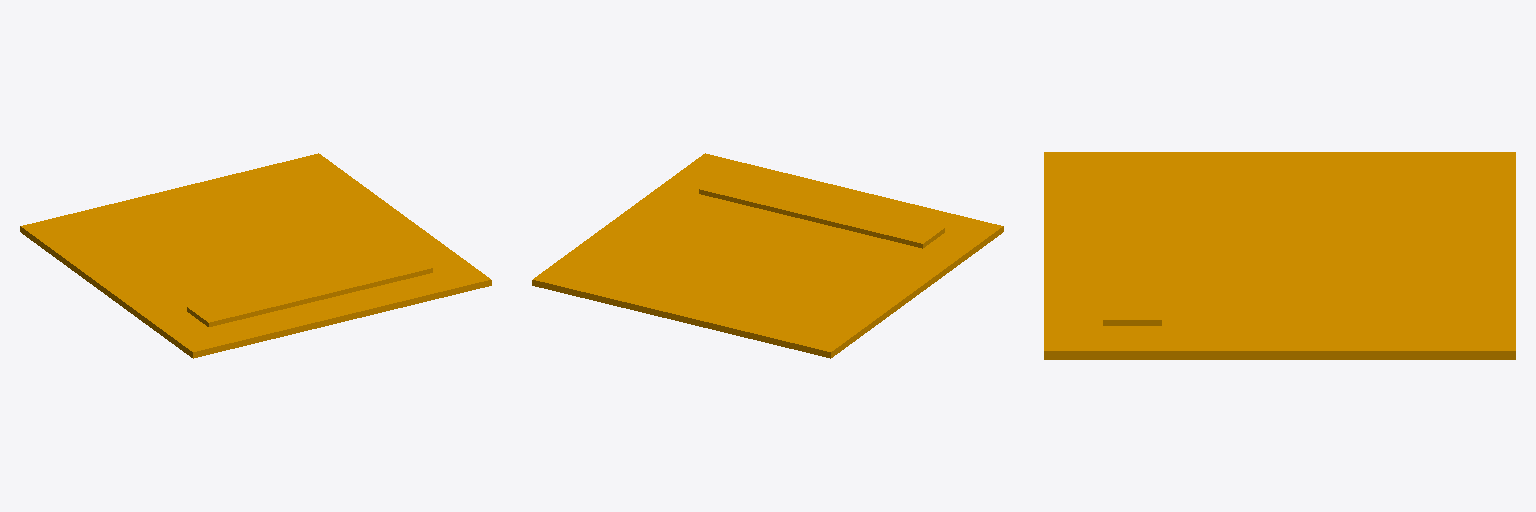
URDF robot description (terrain_estate):
<?xml version="1.0" ?>
<robot name="terrain_estate">

  <link name="terrain_link">
    <inertial>
      <mass value="0"/> <!-- static object -->
      <inertia ixx="0.0" ixy="0" ixz="0" iyy="0.0" iyz="0" izz="0.0"/>
      <origin xyz="0 0 0" rpy="0 0 0"/>
    </inertial>

    <collision name="collision">
      <origin xyz="0 0 0" rpy="1.5708 0 0"/>
      <geometry>
        <mesh filename="terrain5.obj" scale="1 1 1"/>
      </geometry>
    </collision>

    <visual name="visual">
      <origin xyz="0 0 0" rpy="1.5708 0 0"/>
      <geometry>
        <mesh filename="terrain5.obj" scale="1 1 1"/>
      </geometry>
      <!-- Optional: use <material> if you want to override color -->
    </visual>
  </link>

</robot>

--- Render facts (derived) ---
3 views of the same robot in one strip: view 1: azimuth 30°, elevation 25°; view 2: azimuth 150°, elevation 25°; view 3: azimuth 270°, elevation 25° (orthographic).
Robot: terrain_estate — 1 links, 0 joints (none); root link terrain_link; default pose: all joints at 0.
Links seen in each view (by area): view 1: terrain_link; view 2: terrain_link; view 3: terrain_link.
Link boxes in pixels (x1=…): terrain_link: x1=20, y1=153, x2=491, y2=358; terrain_link: x1=532, y1=153, x2=1003, y2=358; terrain_link: x1=1044, y1=152, x2=1515, y2=359.
Size in the robot's own frame: 100 by 100 by 3.51 metres.
1 mesh visuals loaded from 1 distinct referenced files (1 OBJ).